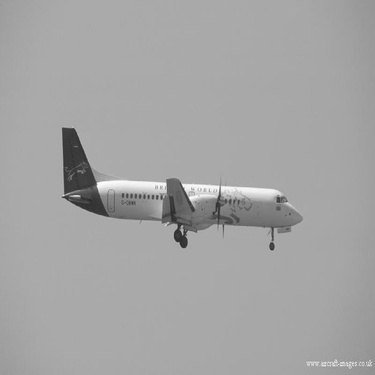airplane: (44, 122, 308, 260)
